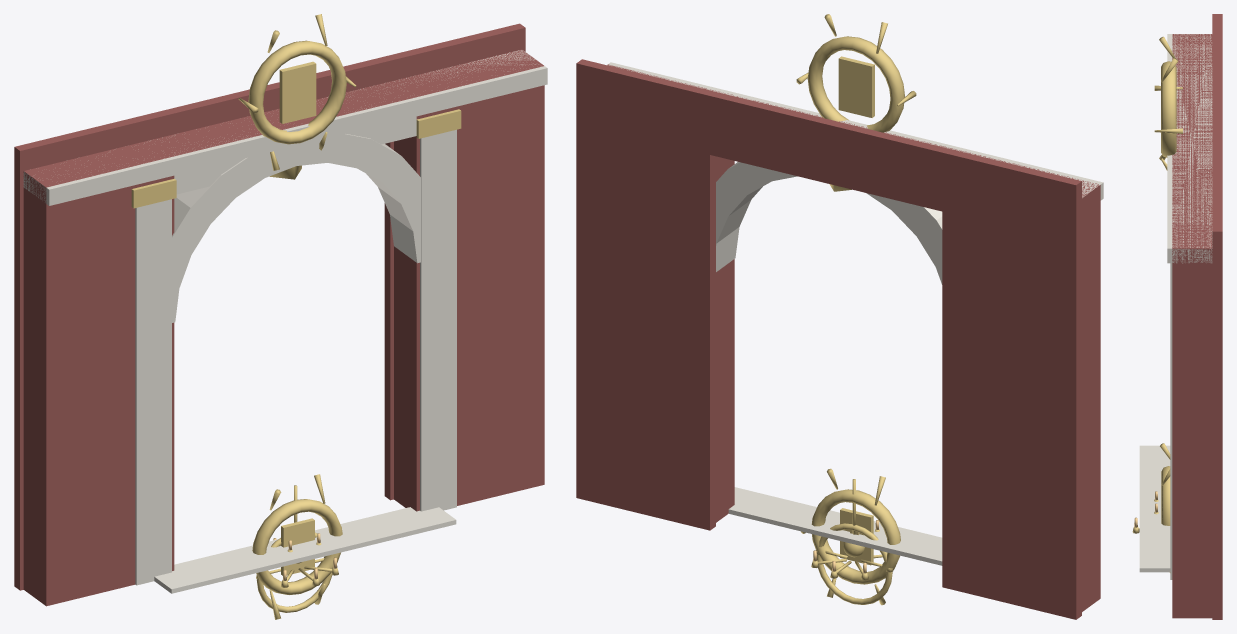
Rendered from baroque.glb.
3 renders of one model, left to right at view 1: azimuth 30°, elevation 25°; view 2: azimuth 150°, elevation 25°; view 3: azimuth 270°, elevation 25°, orthographic. The views are drawn at different scales.
Visible parts, largest first — view 1: Damask_shoulderL, Damask_shoulderR, Marble_pilL, Marble_pilR, Marble_arch, Marble_cornice, Damask_field, Damask_backL, Marble_threshold, Damask_backR, Damask_backHdr, Gilt_ring (+7 smaller); view 2: Damask_backL, Damask_backR, Damask_backHdr, Damask_shoulderL, Marble_arch, Damask_shoulderR, Marble_threshold, Gilt_ring, Gilt_ring.002, Marble_cornice, Gilt_shield, Gilt_ring.001 (+1 smaller); view 3: Damask_shoulderR, Damask_field, Marble_cornice, Damask_backR, Marble_threshold, Gilt_ring, Damask_backHdr, Marble_pilR, Damask_backL, Gilt_ring.002.
Part boxes in pixels (box(x1,y1,x2,y2)): Damask_shoulderL: box(23, 173, 174, 606); Damask_shoulderR: box(394, 85, 544, 511); Marble_pilL: box(135, 199, 171, 585); Marble_pilR: box(420, 129, 456, 511); Marble_arch: box(172, 134, 420, 322); Marble_cornice: box(23, 50, 547, 205); Damask_field: box(23, 49, 543, 188); Damask_backL: box(14, 116, 154, 590); Marble_threshold: box(154, 507, 456, 593); Damask_backR: box(384, 23, 525, 500); Damask_backHdr: box(139, 56, 400, 141); Gilt_ring: box(248, 40, 346, 144); Damask_backL: box(942, 148, 1081, 619); Damask_backR: box(576, 59, 715, 530); Damask_backHdr: box(699, 89, 958, 213); Damask_shoulderL: box(1082, 186, 1100, 611); Marble_arch: box(716, 162, 942, 284); Damask_shoulderR: box(716, 156, 734, 522); Marble_threshold: box(728, 487, 942, 565); Gilt_ring: box(807, 36, 904, 132); Gilt_ring.002: box(811, 489, 900, 584); Marble_cornice: box(607, 62, 1103, 200); Gilt_shield: box(838, 56, 874, 117); Gilt_ring.001: box(817, 523, 892, 604); Damask_shoulderR: box(1172, 250, 1212, 618); Damask_field: box(1172, 34, 1212, 249); Marble_cornice: box(1167, 34, 1212, 263); Damask_backR: box(1212, 173, 1222, 619); Marble_threshold: box(1139, 445, 1170, 572); Gilt_ring: box(1161, 61, 1176, 157); Damask_backHdr: box(1212, 67, 1222, 177); Marble_pilR: box(1170, 263, 1172, 579); Damask_backL: box(1212, 14, 1222, 67); Gilt_ring.002: box(1161, 466, 1170, 525).
Bounding box in the file's own units: 7.1 × 7.93 × 1.24.
